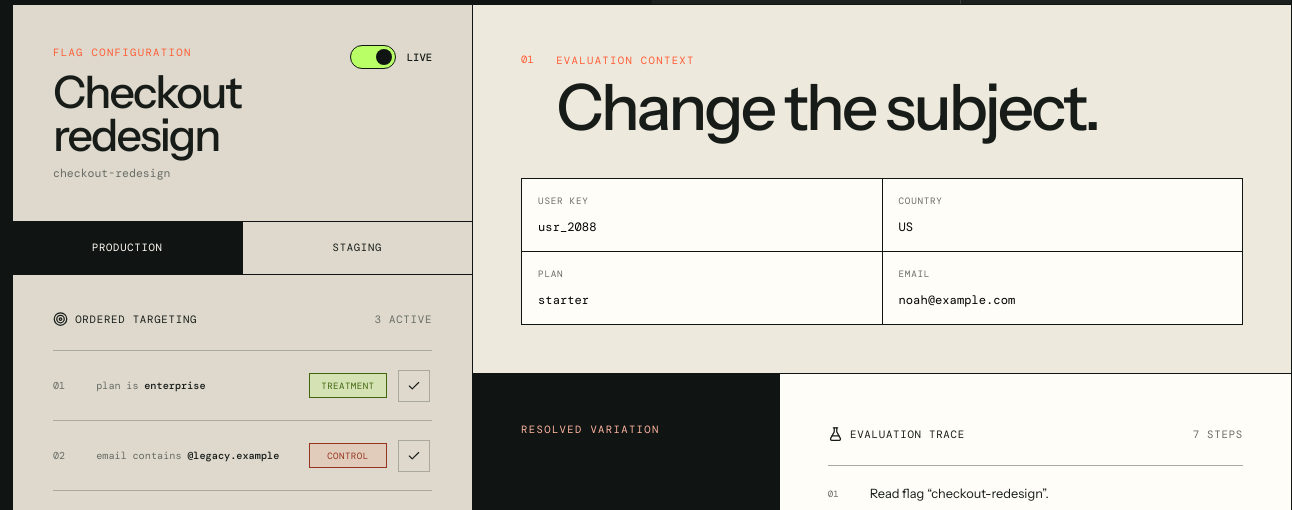
Test: ToggleBench workbench › evaluates edited contexts and exposes a readable trace
(page scrolled)
Replace the text in the field labelled "Plan" with "enterprise" at [702, 300], box [538,292,866,308]
(page scrolled)
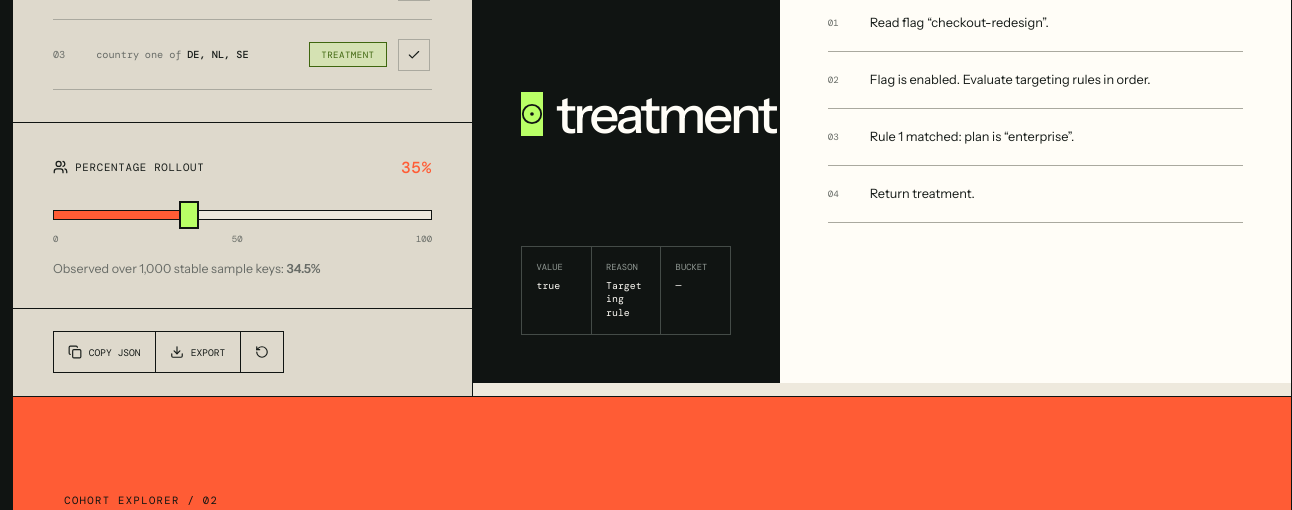
Result: the heading "treatment" is shown at [556,91,775,138]
Result: the text "Rule 1 matched: plan is “enterprise”." is shown at [870,128,1074,144]
Result: the text "Targeting rule" is shown at [606,279,646,319]
